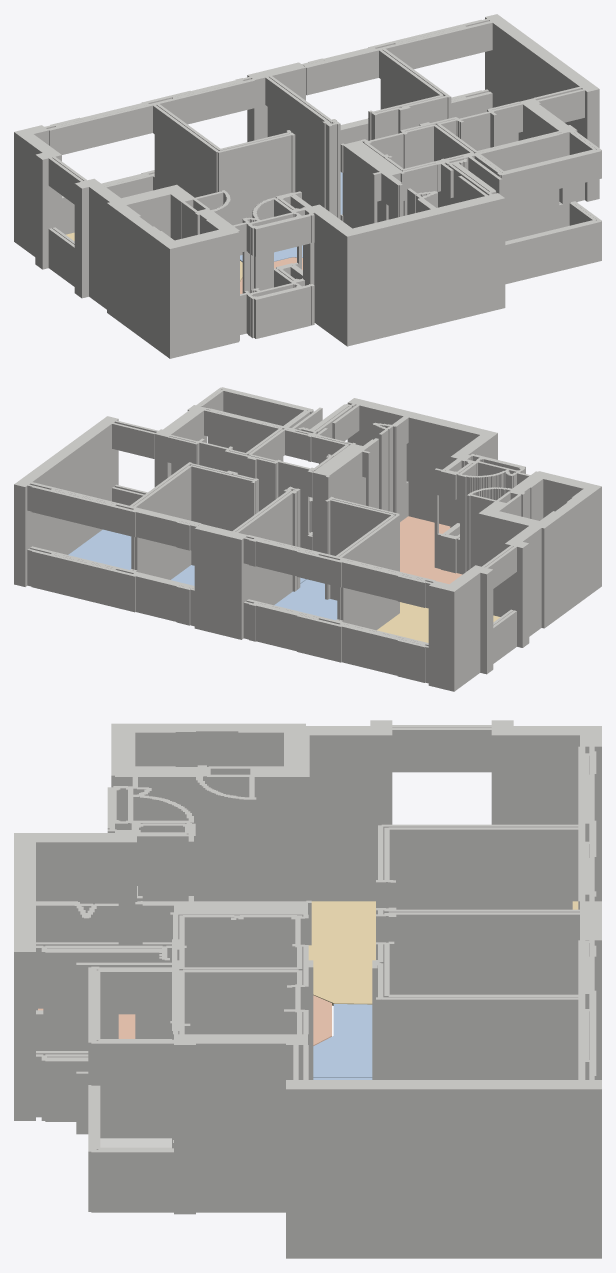
The picture shows the model from 3 angles, top to bottom: view 1: azimuth 30°, elevation 25°; view 2: azimuth 150°, elevation 25°; view 3: azimuth 270°, elevation 25°; orthographic projection. The views are drawn at different scales.
Visible parts, largest first — view 1: walls; view 2: walls, room:kitchen:3, room:bedroom:6, room:bedroom:1, room:living:0; view 3: walls, room:living:0, room:bedroom:1, room:kitchen:3, room:ledge:8.
Boxes of the visible parts, box(x1,y1,x2,y2) form: walls: box(14, 14, 601, 358); walls: box(14, 387, 601, 691); room:kitchen:3: box(400, 516, 462, 584); room:bedroom:6: box(68, 529, 131, 569); room:bedroom:1: box(274, 579, 337, 620); room:living:0: box(377, 602, 500, 642); walls: box(14, 720, 601, 1258); room:living:0: box(308, 901, 578, 1005); room:bedroom:1: box(313, 1004, 372, 1077); room:kitchen:3: box(38, 995, 331, 1045); room:ledge:8: box(100, 1138, 171, 1147).
Size of the model in its own units: 13.09 by 2.8 by 8.82.
